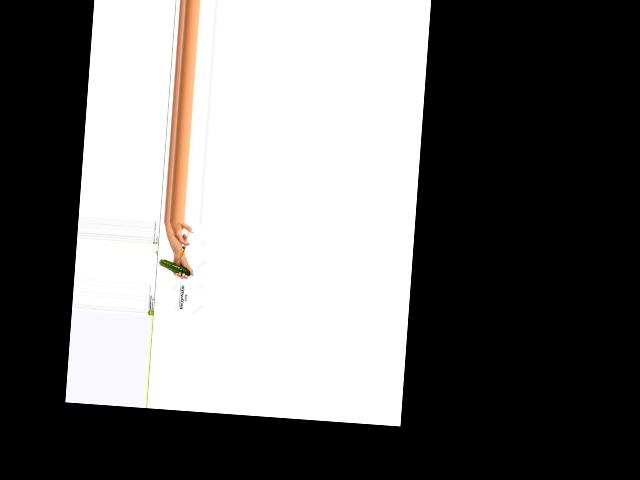cucumber: (158, 258, 191, 275)
